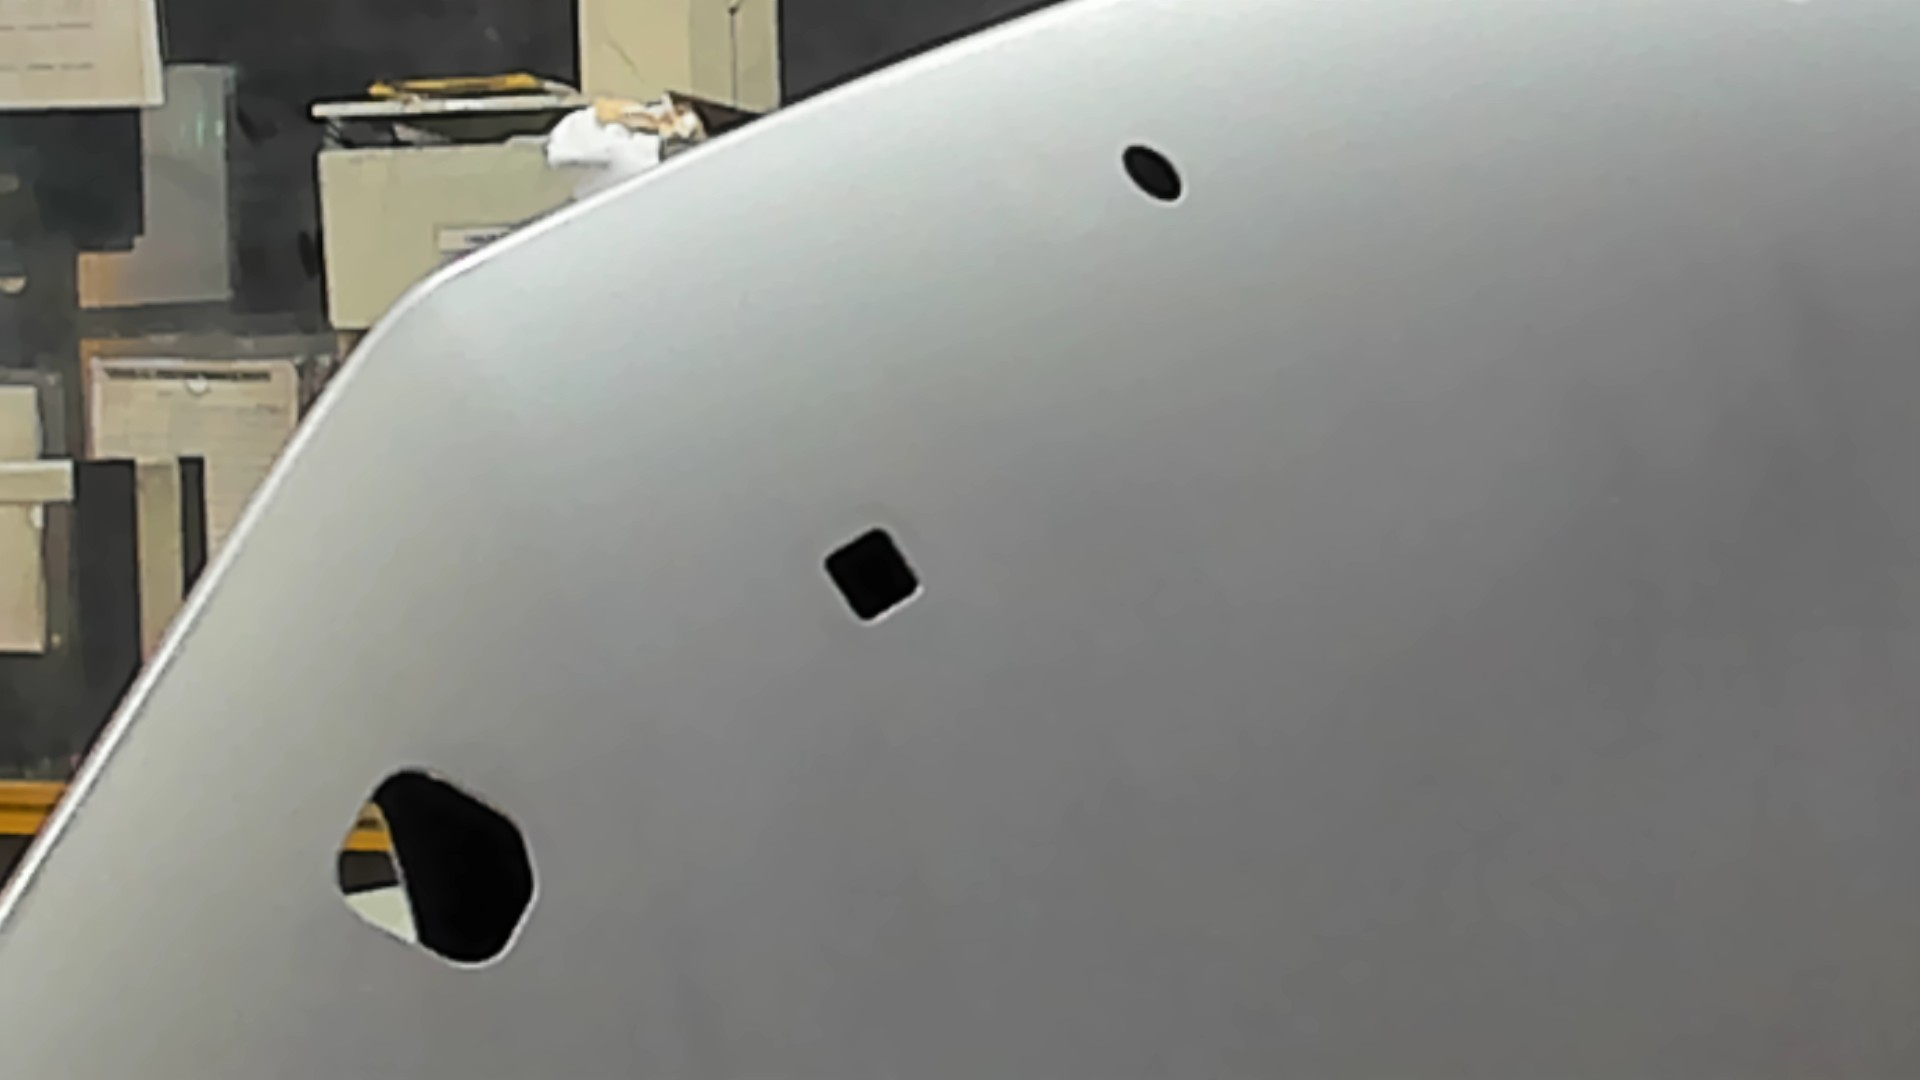Agujero: (822, 527, 926, 624), (1120, 141, 1184, 204)
Agujerote: (334, 767, 539, 971)
